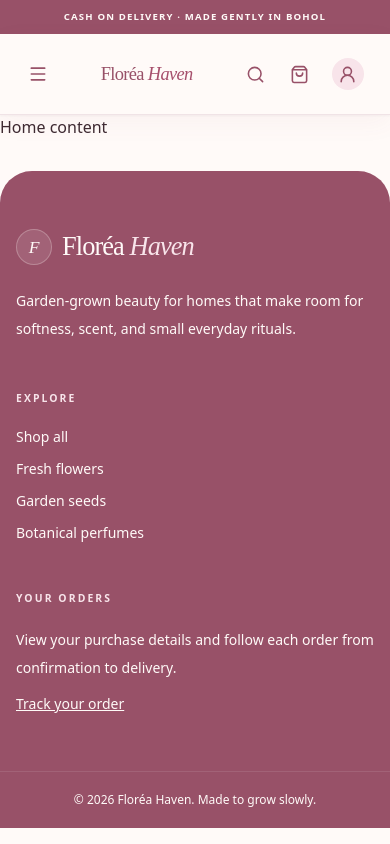
Test case: responsive navigation layouts › shows the customer first name and full identity in the mobile drawer
Expected: the link named "Open account for Mara Santos" is shown, [332, 58, 364, 90]
Click the button named "Open navigation": (38, 74) [16, 52, 60, 96]
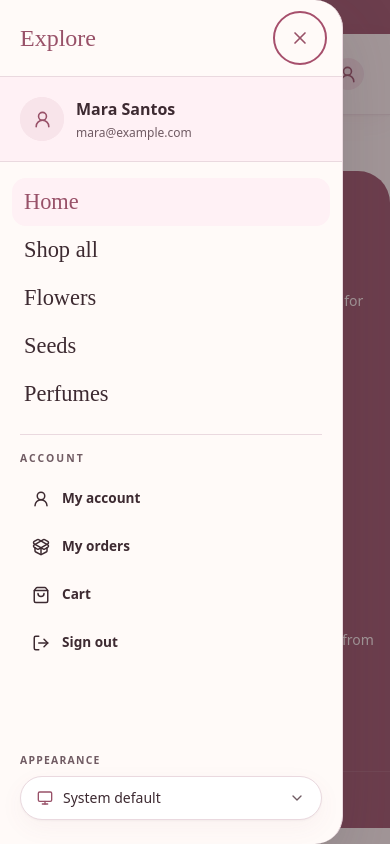
Expected: the text "Mara Santos" is shown, [76, 97, 192, 121]
Expected: the text "mara@example.com" is shown, [76, 125, 192, 141]
Expected: the link "My orders" is shown, [32, 536, 130, 556]
